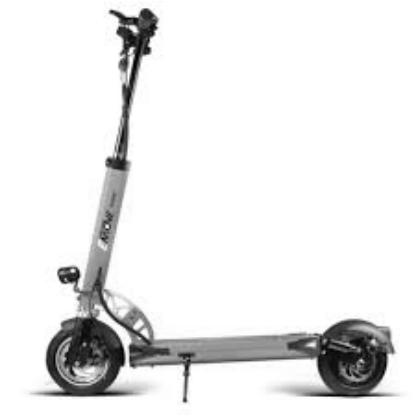bike: (45, 265, 394, 403)
